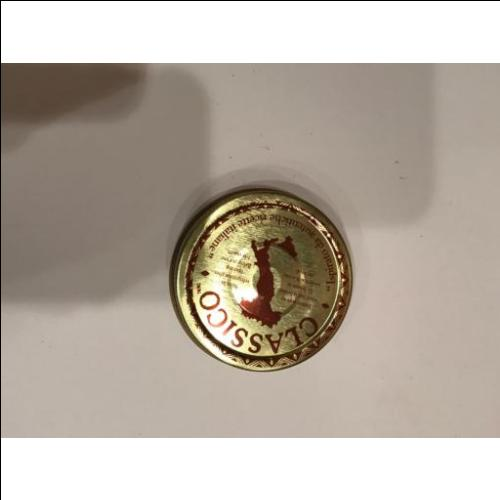metal: (169, 189, 352, 372)
